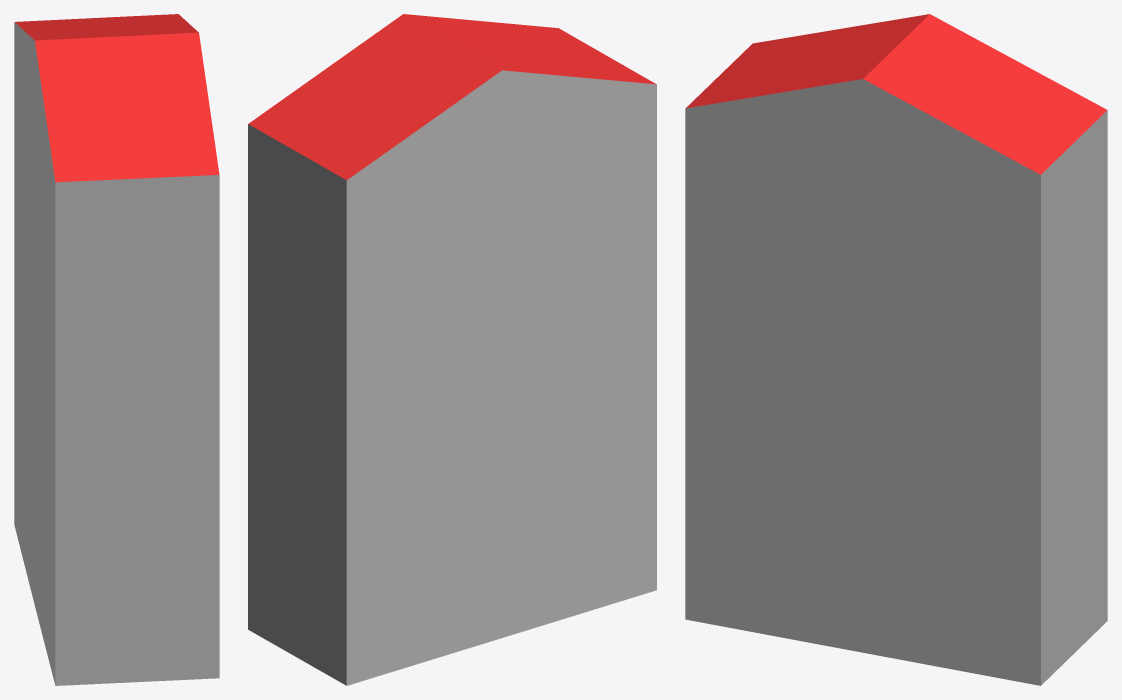
Rendered from DEBY_LOD2_4959321.dae.
The picture shows the model from 3 angles, left to right: view 1: azimuth 30°, elevation 25°; view 2: azimuth 150°, elevation 25°; view 3: azimuth 270°, elevation 25°; orthographic projection.
Bounding box in the file's own units: 10.75 × 14.61 × 21.91.
